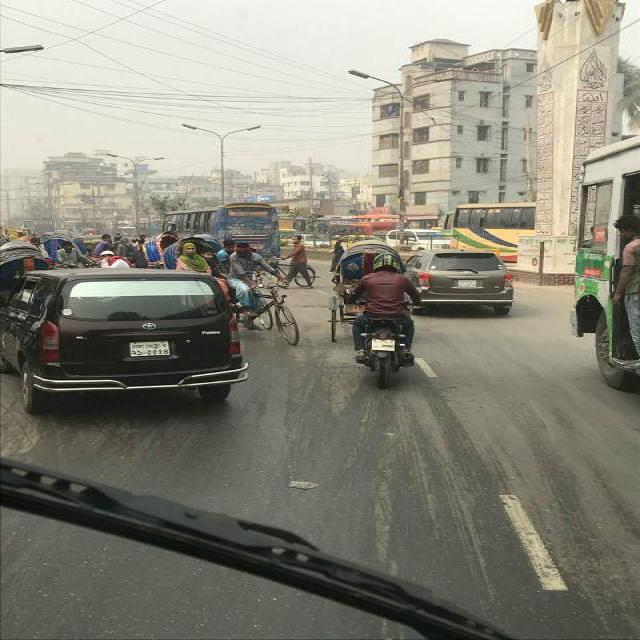bicycle: (256, 252, 317, 286)
bus: (447, 201, 542, 263), (157, 201, 280, 233), (304, 216, 360, 240), (17, 216, 55, 230)
car: (0, 267, 248, 419), (402, 247, 518, 315), (377, 228, 452, 248)
motorbike: (347, 249, 424, 395)
rickshaw: (41, 230, 116, 258), (142, 235, 181, 263)
